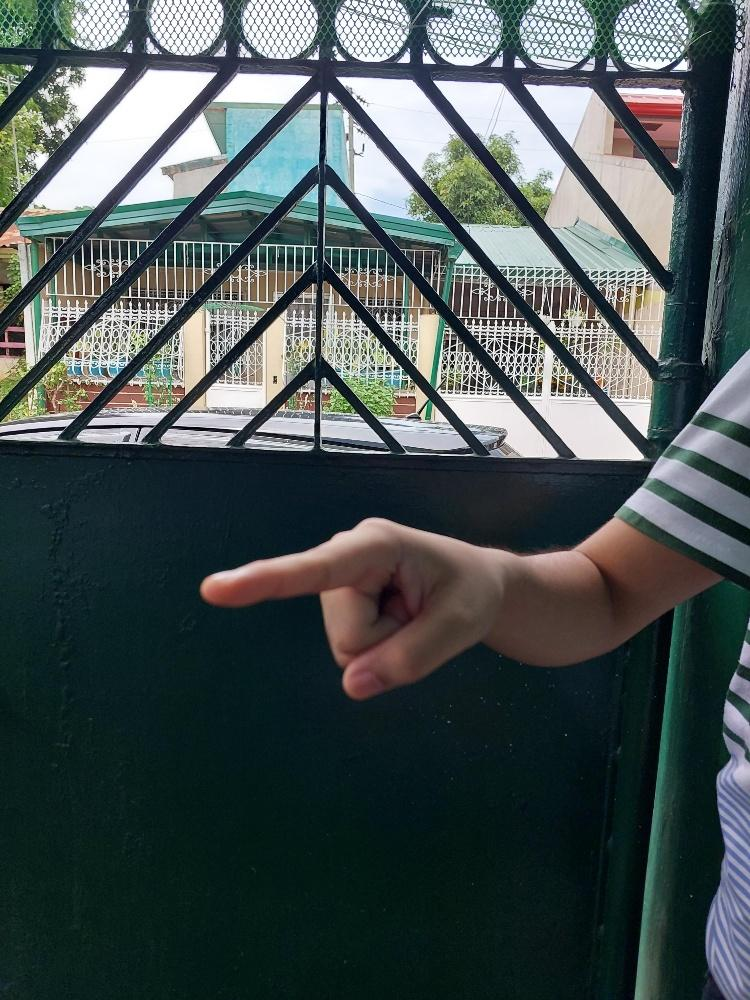z: (200, 510, 499, 704)
